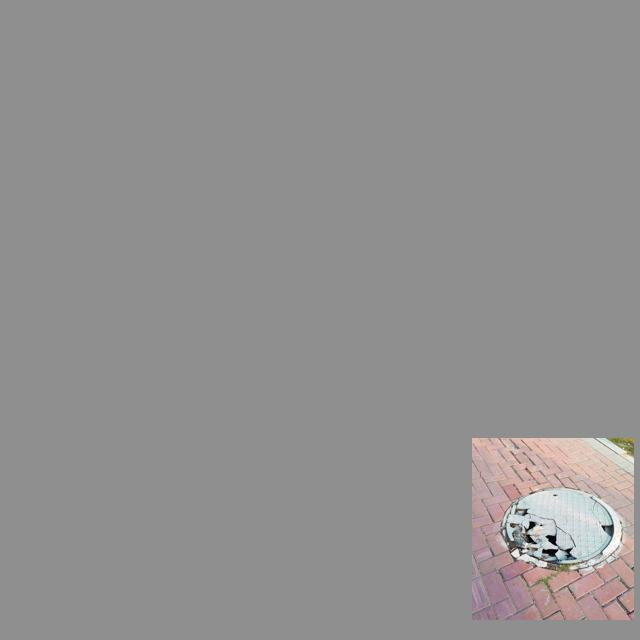broke: (492, 481, 628, 575)
